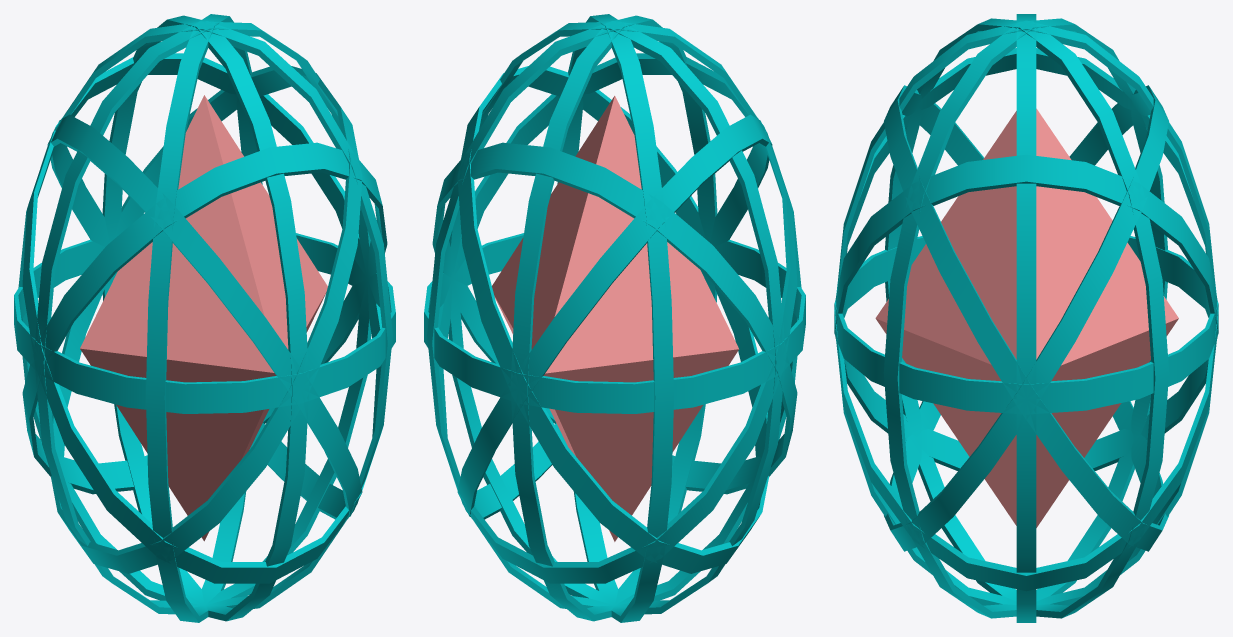
File: Orbe rosa.fbx
The picture shows the model from 3 angles, left to right: view 1: azimuth 30°, elevation 25°; view 2: azimuth 150°, elevation 25°; view 3: azimuth 270°, elevation 25°; orthographic projection.
Visible parts, largest first — view 1: polySurface122, polySurface120, polySurface117, polySurface114, polySurface116, polySurface119, polySurface118, polySurface113, polySurface115, polySurface121; view 2: polySurface122, polySurface120, polySurface117, polySurface119, polySurface116, polySurface114, polySurface121, polySurface113, polySurface115, polySurface118; view 3: polySurface122, polySurface117, polySurface118, polySurface121, polySurface113, polySurface119, polySurface114, polySurface116, polySurface115, polySurface120.
Boxes of the visible parts, x1,y1,x2,y2 form: polySurface122: (80, 95, 327, 541); polySurface120: (102, 15, 309, 621); polySurface117: (51, 66, 362, 573); polySurface114: (22, 142, 387, 494); polySurface116: (47, 114, 362, 519); polySurface119: (22, 53, 381, 583); polySurface118: (146, 14, 262, 622); polySurface113: (14, 233, 395, 413); polySurface115: (34, 21, 371, 614); polySurface121: (18, 21, 392, 608); polySurface122: (492, 95, 738, 541); polySurface120: (510, 15, 717, 621); polySurface117: (457, 66, 768, 573); polySurface119: (432, 142, 797, 494); polySurface116: (457, 114, 772, 519); polySurface114: (438, 53, 797, 583); polySurface121: (557, 14, 673, 622); polySurface113: (424, 233, 805, 413); polySurface115: (448, 21, 785, 614); polySurface118: (427, 21, 801, 608); polySurface122: (875, 108, 1178, 527); polySurface117: (834, 154, 1218, 470); polySurface118: (885, 18, 1169, 618); polySurface121: (883, 18, 1167, 618); polySurface113: (834, 236, 1218, 414); polySurface119: (884, 85, 1168, 551); polySurface114: (884, 85, 1168, 551); polySurface116: (834, 48, 1218, 591); polySurface115: (1016, 14, 1036, 622); polySurface120: (834, 20, 1218, 605).
Size of the model in its own units: 0.7308 by 1.23 by 0.7308.
